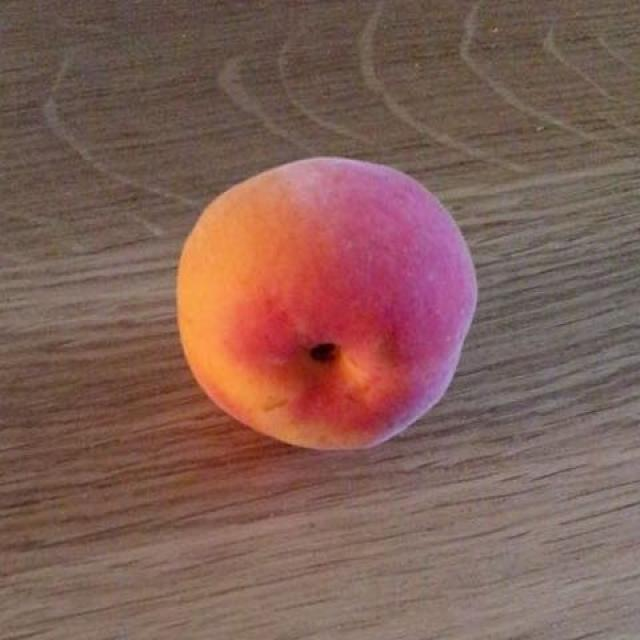Apricot: (163, 176, 449, 472)
